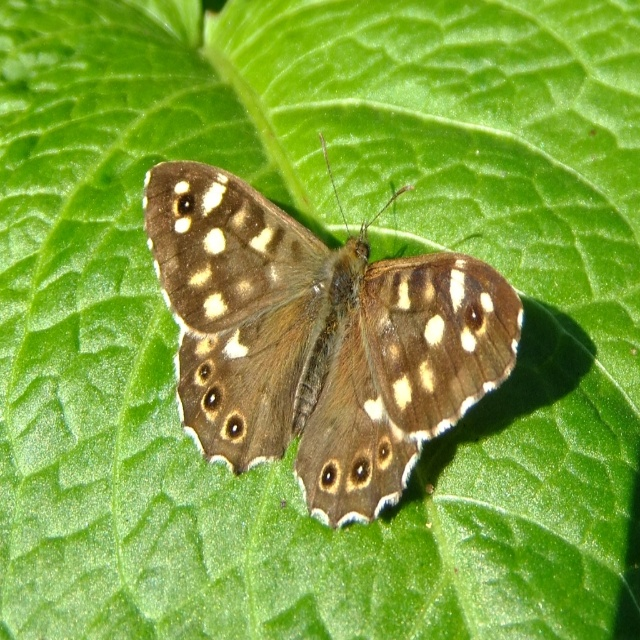Butterfly: (143, 131, 522, 528)
